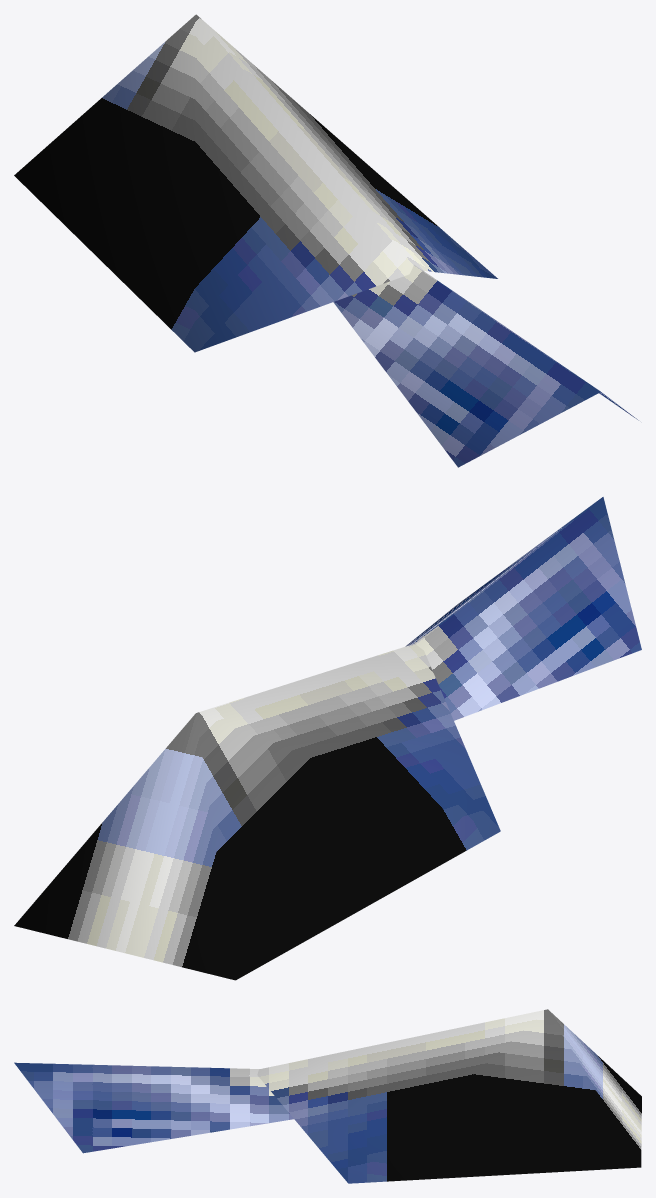
3 renders of one model, top to bottom at view 1: azimuth 30°, elevation 25°; view 2: azimuth 150°, elevation 25°; view 3: azimuth 270°, elevation 25°, orthographic. The views are drawn at different scales.
Parts seen in each view (by area): view 1: GunTankX_Skel_part01; view 2: GunTankX_Skel_part01; view 3: GunTankX_Skel_part01.
Part boxes in pixels (x1=…): GunTankX_Skel_part01: x1=14, y1=14, x2=638, y2=467; GunTankX_Skel_part01: x1=14, y1=497, x2=641, y2=980; GunTankX_Skel_part01: x1=14, y1=1009, x2=641, y2=1183.
Bounding box in the file's own units: 3.07 × 1.85 × 8.35.
Materials: 1 (1 with a texture image).
